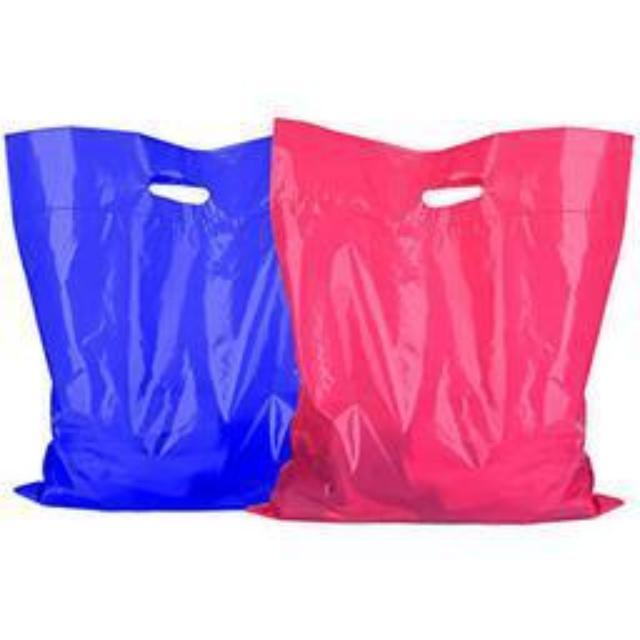Bolsa-de-nilon: (242, 121, 635, 526), (5, 126, 298, 515)
